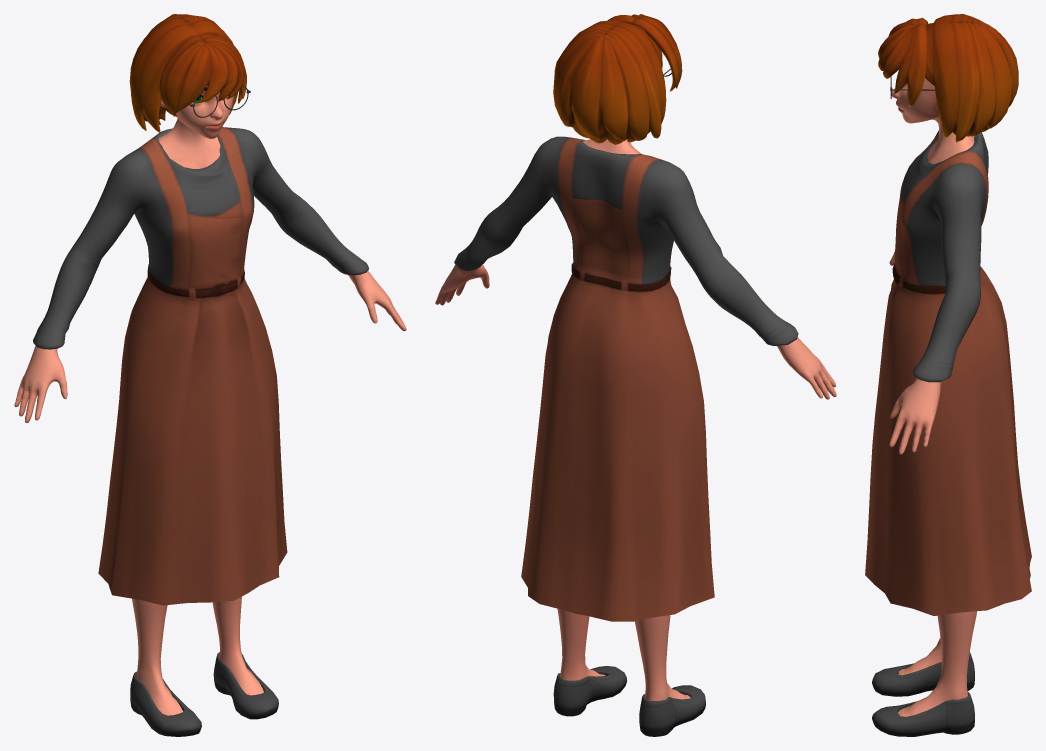
The model's file is Jennifer_Mesh.obj.
3 views of the same model, side by side, from view 1: azimuth 30°, elevation 25°; view 2: azimuth 150°, elevation 25°; view 3: azimuth 270°, elevation 25° (orthographic). The views are drawn at different scales.
Parts seen in each view (by area): view 1: Jennifer_Mesh_0; view 2: Jennifer_Mesh_0; view 3: Jennifer_Mesh_0.
Part boxes in pixels (x1,y1,x2,y2): Jennifer_Mesh_0: [14, 14, 406, 736]; Jennifer_Mesh_0: [435, 14, 836, 736]; Jennifer_Mesh_0: [865, 14, 1031, 736].
Size of the model in its own units: 1.06 by 1.8 by 0.395.
1 material, 1 textured.
